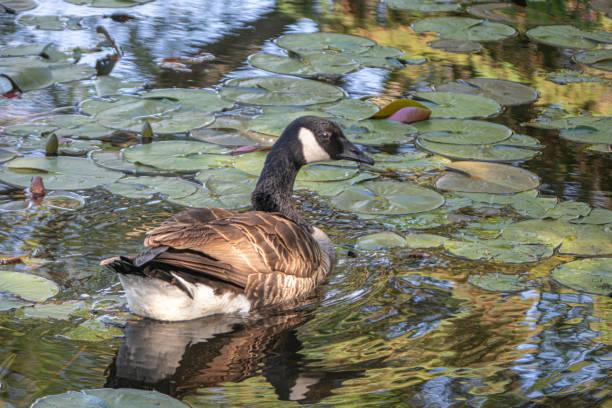Canadian-Goose: (105, 115, 376, 324)
